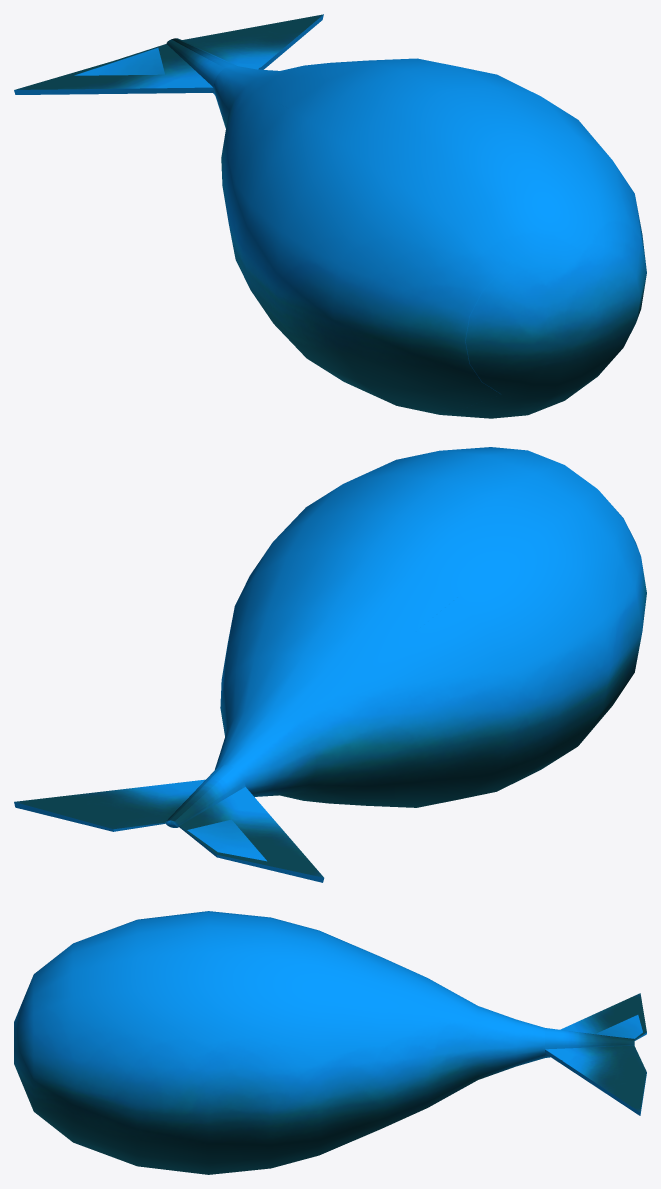
File: bigbluewhale.fbx
3 renders of one model, top to bottom at view 1: azimuth 30°, elevation 25°; view 2: azimuth 150°, elevation 25°; view 3: azimuth 270°, elevation 25°, orthographic. The views are drawn at different scales.
Parts seen in each view (by area): view 1: whalemodel; view 2: whalemodel; view 3: whalemodel.
Boxes of the visible parts, <box> form: whalemodel: <box>14,14,646,418</box>; whalemodel: <box>14,447,646,882</box>; whalemodel: <box>14,911,646,1174</box>.
Bounding box in the file's own units: 1.22 × 1.02 × 2.51.
